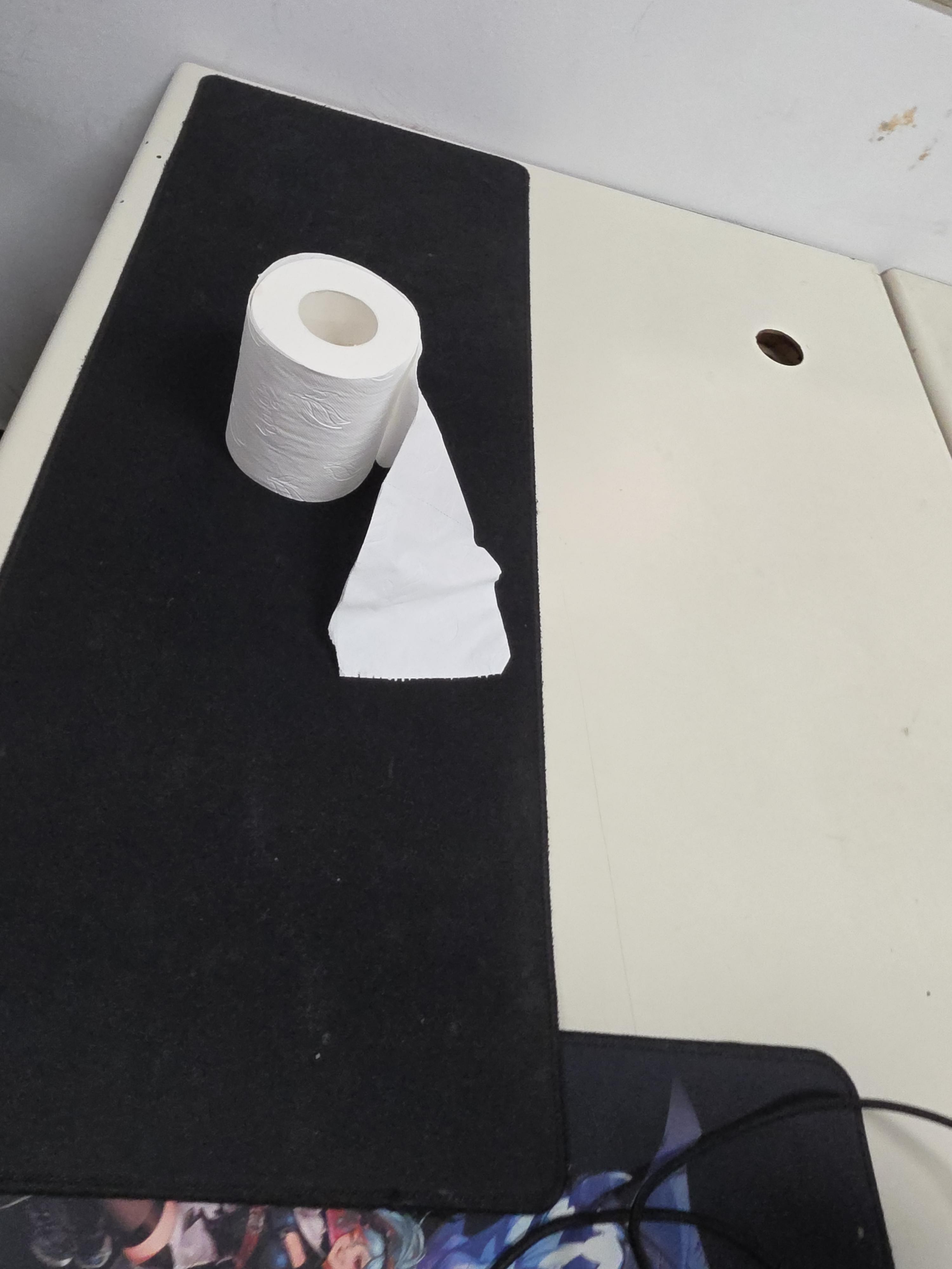tissue: (225, 252, 511, 681)
